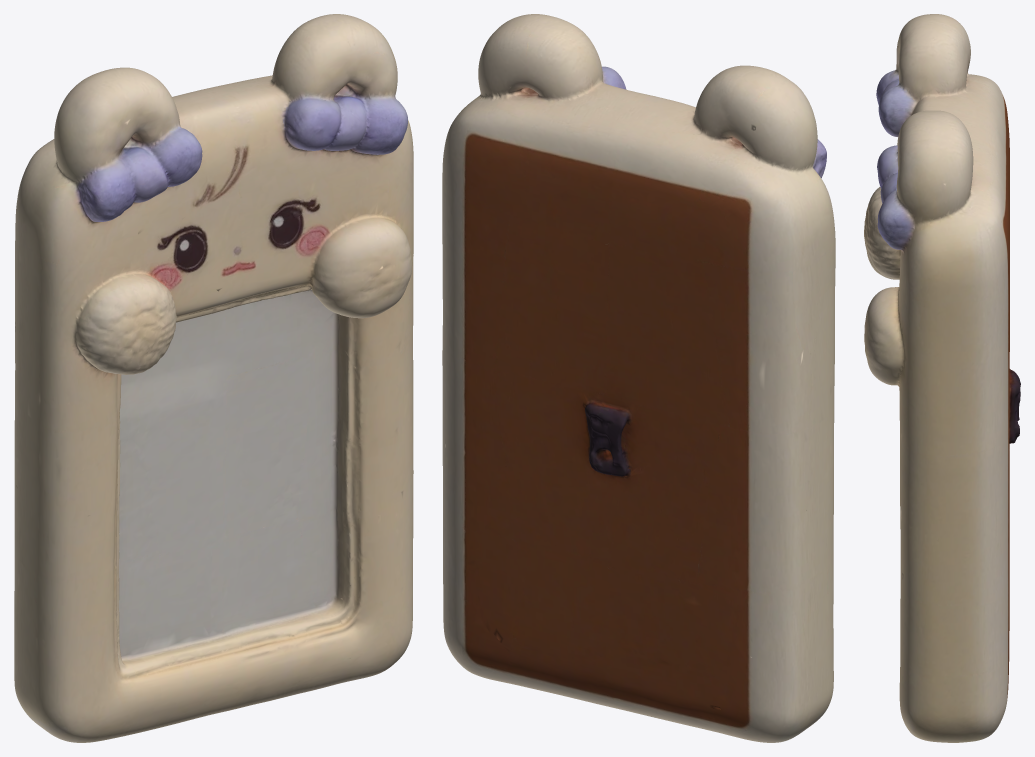
Rendered from profile-card-holder.glb.
3 renders of one model, left to right at view 1: azimuth 30°, elevation 25°; view 2: azimuth 150°, elevation 25°; view 3: azimuth 270°, elevation 25°, orthographic. The views are drawn at different scales.
Size of the model in its own units: 1.18 by 2 by 0.4685.
1 material, 1 textured.
